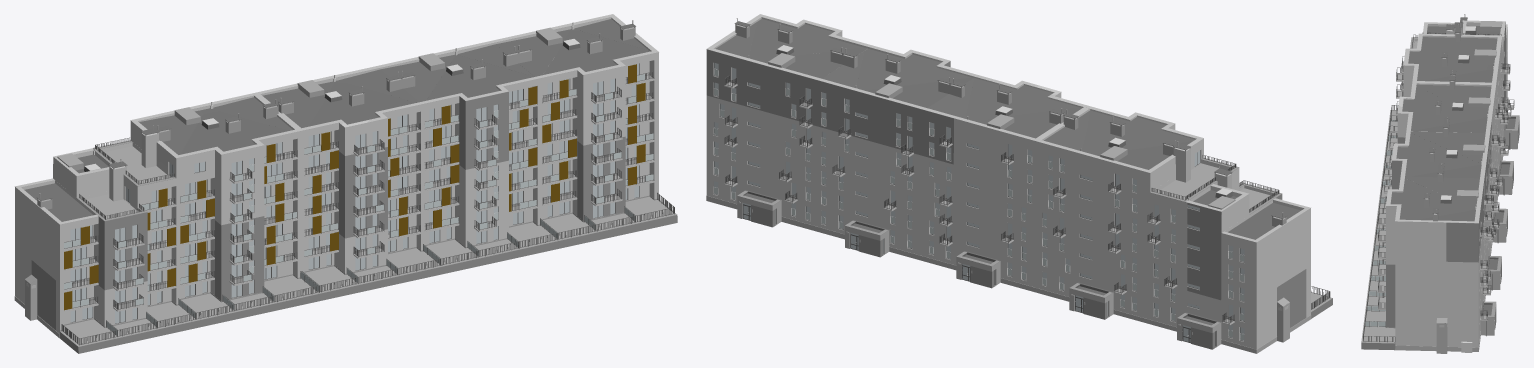
3 views of the same model, side by side, from view 1: azimuth 30°, elevation 25°; view 2: azimuth 150°, elevation 25°; view 3: azimuth 270°, elevation 25° (orthographic). The views are drawn at different scales.
Parts seen in each view (by area): view 1: 2Beqh8vpH32hXD9JGQslyl, 2TwXNexLXDNATg2ojOlmXj, 2LqqUDyI954u7D6C8Es50D, 2PU_Nu6bv2xwh9i27TbcRP, 2w2wBnJPT9TP1WUhSoKXD7, 2tQNvMXgr4DOAcxPv0fIlw, 2B4LOdMTrFzeEiZaBzklZw, 2XUZQgMd96ERhKjfQC5dSe, 2omsJS6aP8tgHtSWVt5uHL, 1uOoz1MoL7X89LTbUcvpp8, 3suZ1ZPPj7FQHSmZ62jGE0, 3PeR4tMRr5POAt9CJwBhoq (+17 smaller); view 2: 2Beqh8vpH32hXD9JGQslyl, 2uQWDqlh98LR7EszH2Niqc, 2PU_Nu6bv2xwh9i27TbcRP, 0Bncj5xtbEmxJd2wFeoXcU, 2w2wBnJPT9TP1WUhSoKXD7, 2tQNvMXgr4DOAcxPv0fIlw, 2B4LOdMTrFzeEiZaBzklZw, 2XUZQgMd96ERhKjfQC5dSe, 2vs1sKSeLCEfKKH9QSGSgD, 21UIZsXIP60hcMKi2kbzaN, 3moTo6A7n2iQO9Xl4GMSJr, 0$RfNWpBnAbQtbAucxP_io (+9 smaller); view 3: 2Beqh8vpH32hXD9JGQslyl, 2PU_Nu6bv2xwh9i27TbcRP, 2TwXNexLXDNATg2ojOlmXj, 2w2wBnJPT9TP1WUhSoKXD7, 2tQNvMXgr4DOAcxPv0fIlw, 2XUZQgMd96ERhKjfQC5dSe, 2B4LOdMTrFzeEiZaBzklZw, 2BR4YYEErA$vY$lvJMRTFw, 1z4uO4Biz5wQopYziaLF_r, 0$RfNWpBnAbQtbAucxP_io, 17JcU1I6D8Vgmlo4Ek94ii, 2zR3jMvh5AzQ8xy5kee359 (+26 smaller).
Boxes of the visible parts, left/top/right/bottom form: 2Beqh8vpH32hXD9JGQslyl: left=15, top=17, right=658, bottom=333; 2TwXNexLXDNATg2ojOlmXj: left=60, top=196, right=677, bottom=346; 2LqqUDyI954u7D6C8Es50D: left=60, top=215, right=677, bottom=353; 2PU_Nu6bv2xwh9i27TbcRP: left=130, top=14, right=658, bottom=158; 2w2wBnJPT9TP1WUhSoKXD7: left=181, top=111, right=289, bottom=154; 2tQNvMXgr4DOAcxPv0fIlw: left=308, top=82, right=416, bottom=126; 2B4LOdMTrFzeEiZaBzklZw: left=543, top=30, right=649, bottom=74; 2XUZQgMd96ERhKjfQC5dSe: left=426, top=55, right=533, bottom=100; 2omsJS6aP8tgHtSWVt5uHL: left=465, top=91, right=508, bottom=169; 1uOoz1MoL7X89LTbUcvpp8: left=221, top=216, right=264, bottom=300; 3suZ1ZPPj7FQHSmZ62jGE0: left=345, top=147, right=387, bottom=238; 3PeR4tMRr5POAt9CJwBhoq: left=104, top=212, right=147, bottom=290; 2Beqh8vpH32hXD9JGQslyl: left=706, top=17, right=1310, bottom=349; 2uQWDqlh98LR7EszH2Niqc: left=706, top=49, right=953, bottom=164; 2PU_Nu6bv2xwh9i27TbcRP: left=706, top=14, right=1203, bottom=173; 0Bncj5xtbEmxJd2wFeoXcU: left=1187, top=203, right=1221, bottom=300; 2w2wBnJPT9TP1WUhSoKXD7: left=1082, top=110, right=1194, bottom=154; 2tQNvMXgr4DOAcxPv0fIlw: left=965, top=78, right=1079, bottom=121; 2B4LOdMTrFzeEiZaBzklZw: left=749, top=19, right=863, bottom=61; 2XUZQgMd96ERhKjfQC5dSe: left=856, top=48, right=970, bottom=90; 2vs1sKSeLCEfKKH9QSGSgD: left=706, top=195, right=1311, bottom=353; 21UIZsXIP60hcMKi2kbzaN: left=1228, top=203, right=1300, bottom=239; 3moTo6A7n2iQO9Xl4GMSJr: left=1277, top=269, right=1306, bottom=327; 0$RfNWpBnAbQtbAucxP_io: left=760, top=47, right=867, bottom=78; 2Beqh8vpH32hXD9JGQslyl: left=1386, top=22, right=1507, bottom=347; 2PU_Nu6bv2xwh9i27TbcRP: left=1386, top=33, right=1502, bottom=223; 2TwXNexLXDNATg2ojOlmXj: left=1361, top=110, right=1397, bottom=343; 2w2wBnJPT9TP1WUhSoKXD7: left=1408, top=38, right=1488, bottom=80; 2tQNvMXgr4DOAcxPv0fIlw: left=1402, top=87, right=1486, bottom=131; 2XUZQgMd96ERhKjfQC5dSe: left=1396, top=133, right=1480, bottom=176; 2B4LOdMTrFzeEiZaBzklZw: left=1390, top=178, right=1474, bottom=219; 2BR4YYEErA$vY$lvJMRTFw: left=1446, top=222, right=1478, bottom=262; 1z4uO4Biz5wQopYziaLF_r: left=1416, top=84, right=1491, bottom=116; 0$RfNWpBnAbQtbAucxP_io: left=1405, top=176, right=1479, bottom=207; 17JcU1I6D8Vgmlo4Ek94ii: left=1410, top=131, right=1485, bottom=163; 2zR3jMvh5AzQ8xy5kee359: left=1422, top=37, right=1497, bottom=64.
Size of the model in its own units: 88.11 by 24.27 by 24.51.
